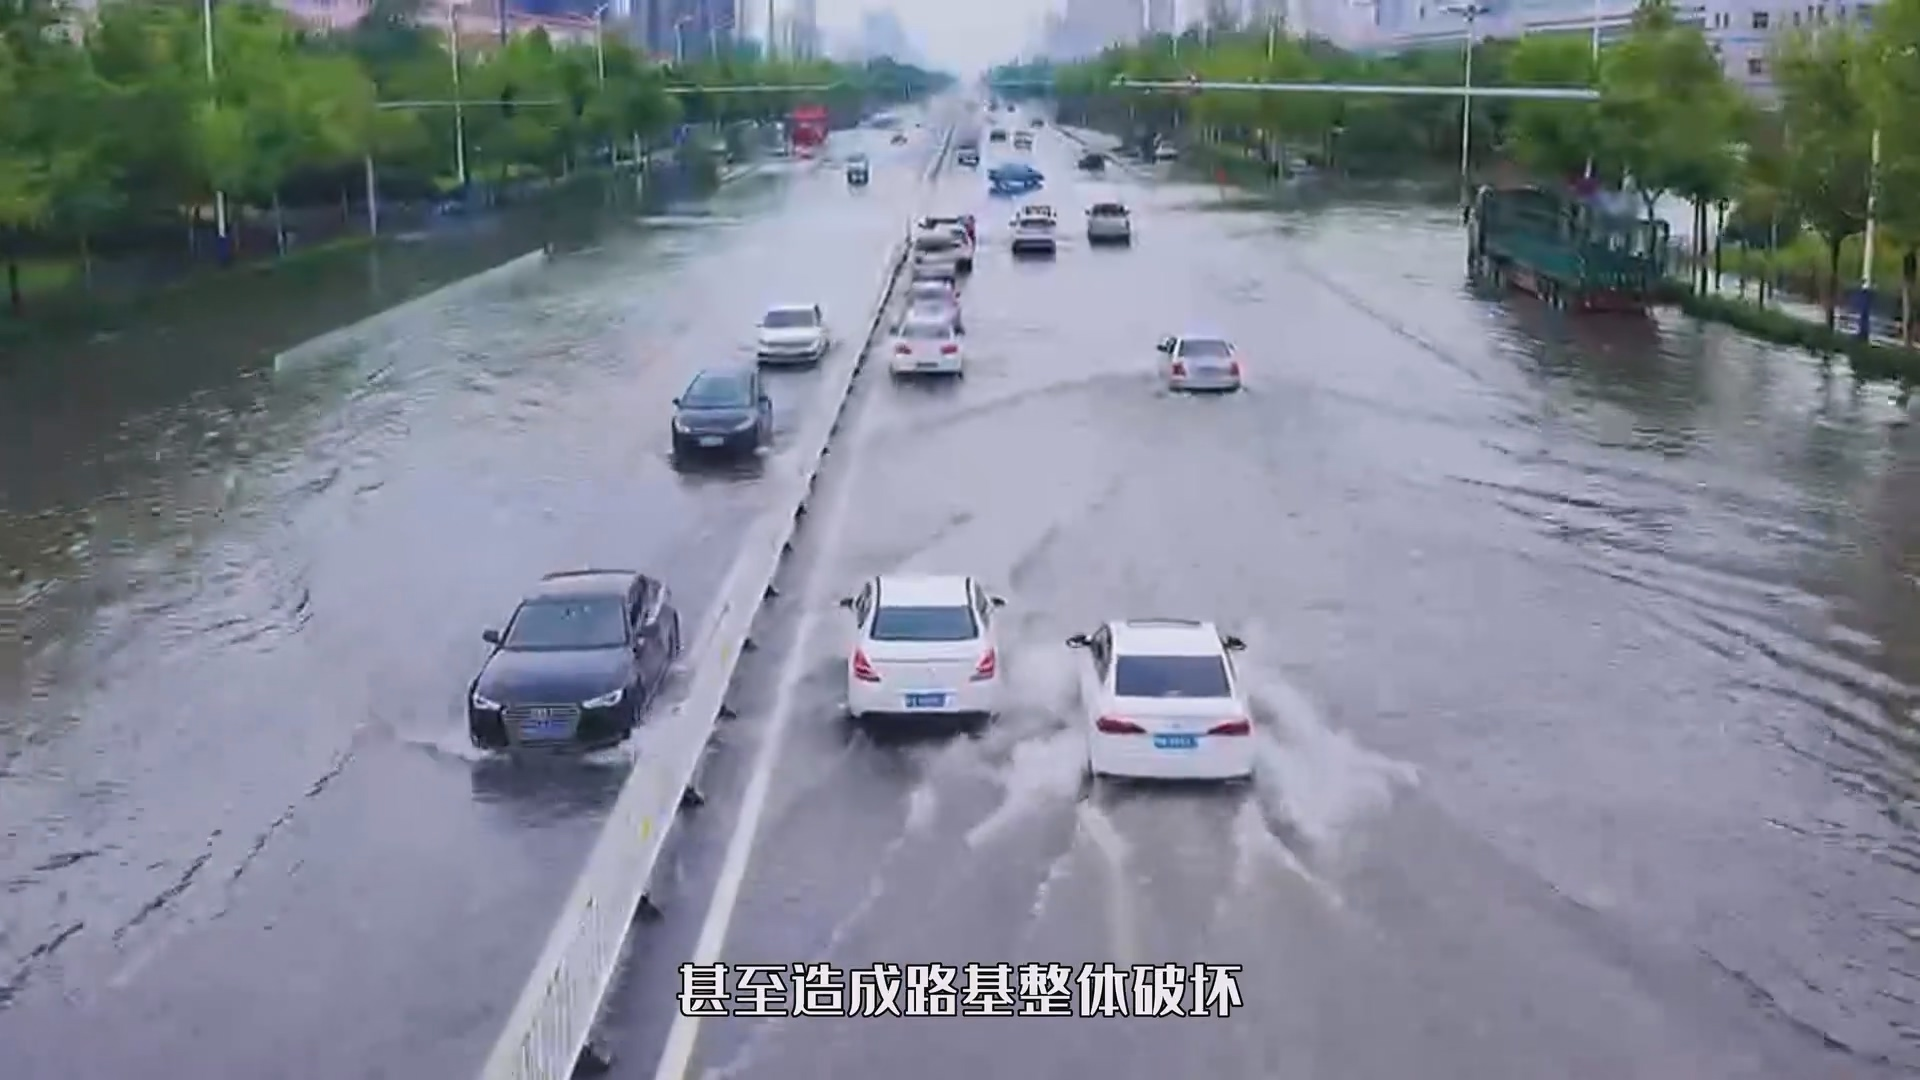puddle: (1, 291, 1920, 1080)
